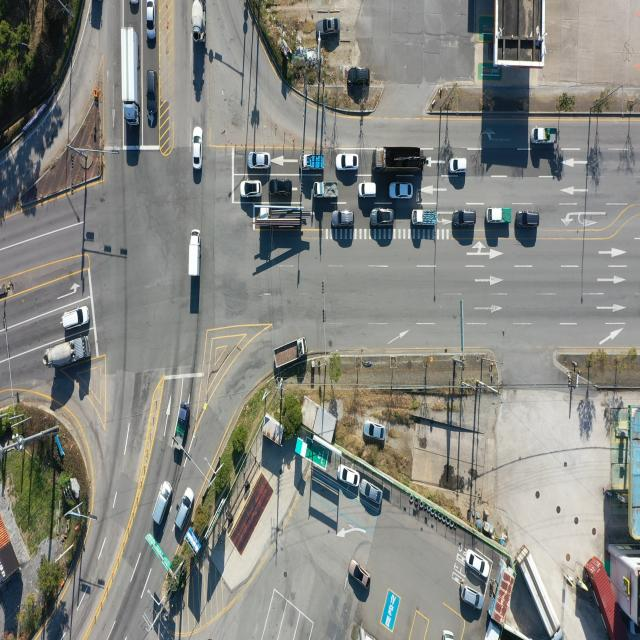car: (154, 481, 175, 527), (175, 488, 194, 530), (348, 558, 371, 591), (61, 306, 89, 331), (468, 550, 492, 579), (463, 584, 486, 610), (361, 480, 384, 504), (338, 464, 361, 486), (146, 69, 157, 114), (371, 208, 395, 228), (332, 209, 356, 228), (363, 421, 385, 441), (192, 127, 202, 169), (249, 151, 272, 169), (270, 178, 293, 196), (455, 210, 478, 228), (389, 182, 413, 199), (349, 66, 370, 85), (336, 153, 359, 170), (354, 62, 375, 80), (519, 212, 542, 228), (242, 180, 262, 198), (146, 0, 155, 40), (320, 18, 340, 36), (358, 182, 377, 198), (450, 159, 468, 175), (129, 0, 139, 6)
medium_truck: (519, 544, 563, 637), (372, 144, 428, 178), (44, 334, 90, 370), (124, 26, 140, 125), (255, 207, 305, 234), (273, 338, 306, 370), (192, 0, 206, 45)
small_truck: (176, 399, 193, 454), (189, 231, 201, 281), (531, 127, 557, 146), (314, 180, 338, 199), (412, 209, 437, 227), (486, 208, 512, 225), (302, 155, 325, 173), (443, 629, 456, 640)
